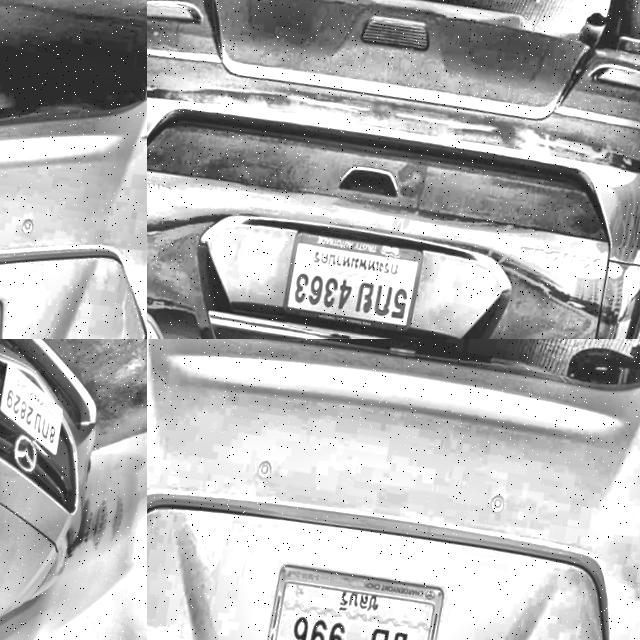license-plate: (271, 224, 424, 339), (250, 553, 448, 640), (0, 357, 74, 468)
